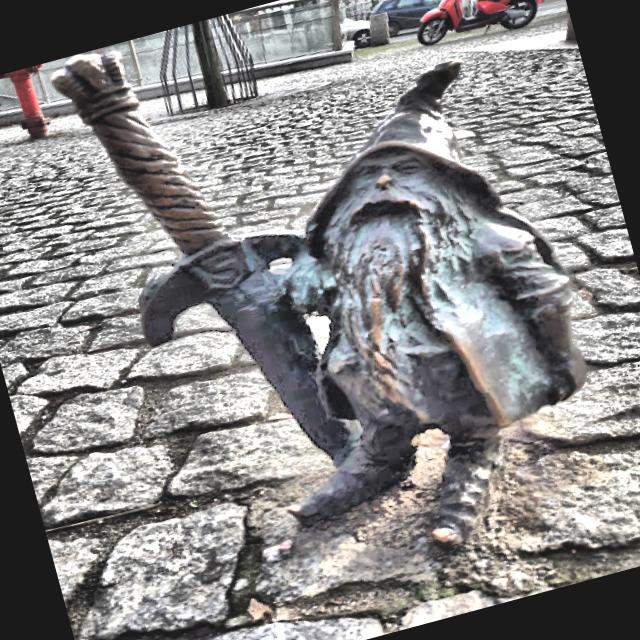Giermek_Grun-Waldek: (52, 52, 588, 549)
